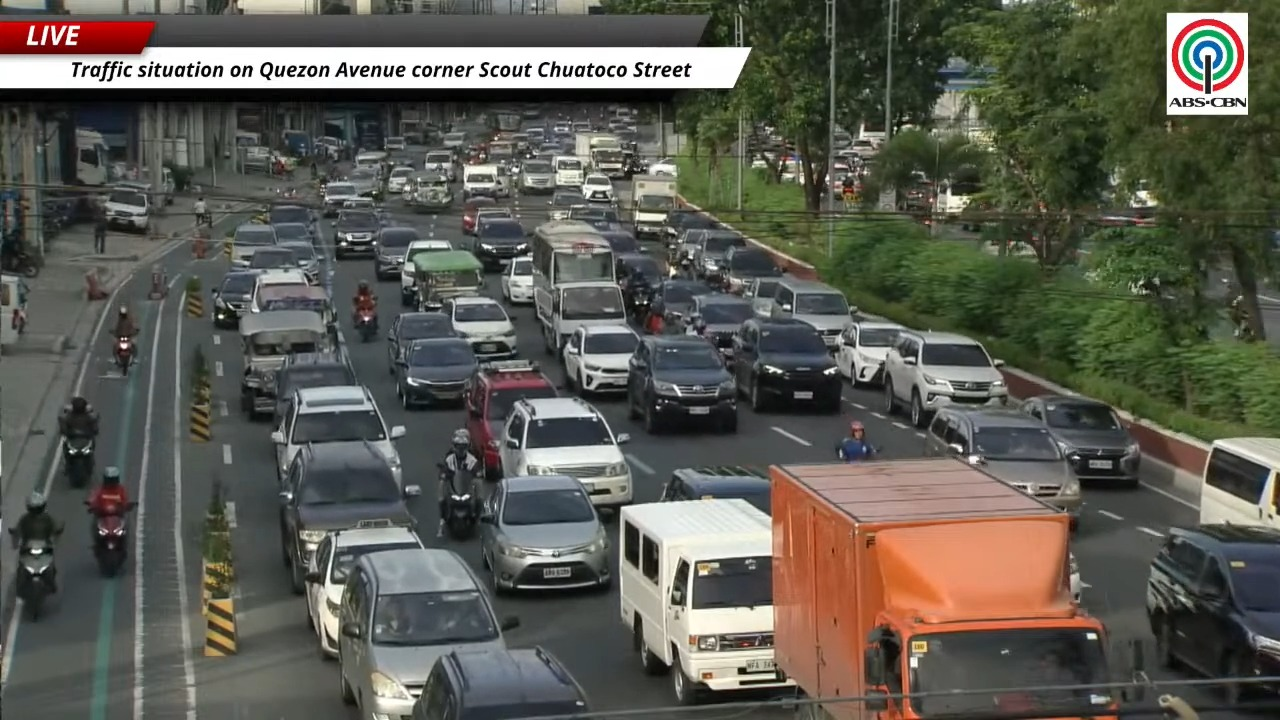bus: (531, 220, 615, 351), (1199, 438, 1279, 529)
car: (338, 548, 518, 719), (279, 441, 419, 593), (1146, 524, 1279, 677), (924, 406, 1082, 528), (305, 519, 424, 657), (480, 475, 610, 591), (499, 397, 633, 508), (409, 647, 588, 719), (271, 385, 405, 481), (884, 330, 1008, 428), (465, 360, 558, 479), (1020, 395, 1140, 487), (627, 335, 737, 434), (734, 318, 842, 412), (771, 277, 859, 351), (273, 352, 358, 424), (396, 337, 477, 408), (563, 323, 638, 395), (659, 466, 770, 513), (441, 296, 516, 360), (834, 320, 902, 386), (387, 312, 457, 375), (690, 293, 754, 357), (400, 239, 453, 307), (468, 216, 529, 269), (248, 267, 310, 312), (722, 246, 782, 292), (694, 231, 746, 282), (212, 270, 257, 328), (650, 278, 714, 317), (374, 226, 420, 280), (333, 209, 381, 259), (103, 186, 152, 233), (231, 223, 276, 268), (665, 208, 719, 241), (279, 240, 319, 284), (615, 252, 665, 287), (742, 277, 782, 318), (671, 228, 711, 269), (500, 257, 534, 305), (566, 201, 622, 228), (267, 205, 315, 235), (517, 159, 554, 194), (322, 182, 359, 217), (461, 196, 495, 234), (248, 245, 297, 269), (548, 189, 584, 220), (423, 150, 456, 182), (598, 229, 640, 254), (347, 167, 380, 198), (581, 174, 613, 202), (272, 222, 313, 243), (476, 206, 514, 227), (387, 166, 414, 193), (1069, 552, 1083, 604), (648, 158, 677, 176), (384, 136, 406, 151)
motorcycle: (85, 501, 135, 577), (16, 539, 55, 621), (438, 463, 478, 539), (63, 435, 95, 487), (0, 242, 40, 278), (835, 443, 879, 463), (628, 288, 651, 324), (113, 337, 134, 375), (355, 308, 376, 342)
truck: (769, 458, 1118, 719), (631, 175, 676, 237), (574, 133, 624, 177), (73, 127, 110, 186), (397, 109, 427, 144)
